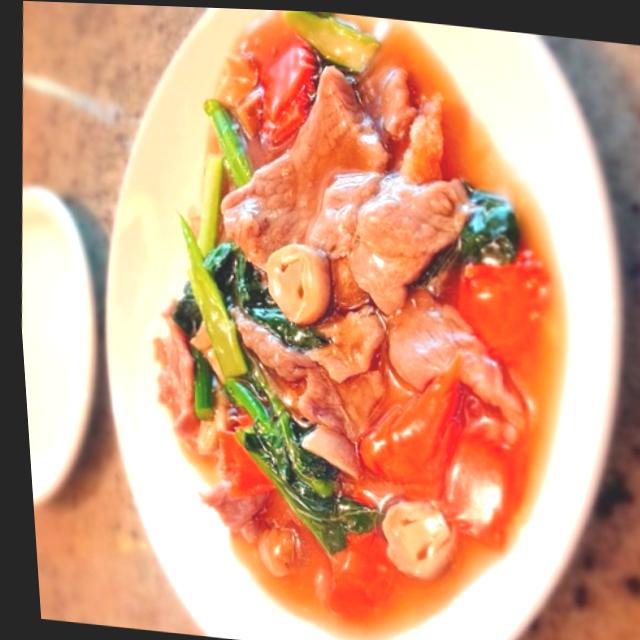面条主食: (54, 2, 629, 640)
